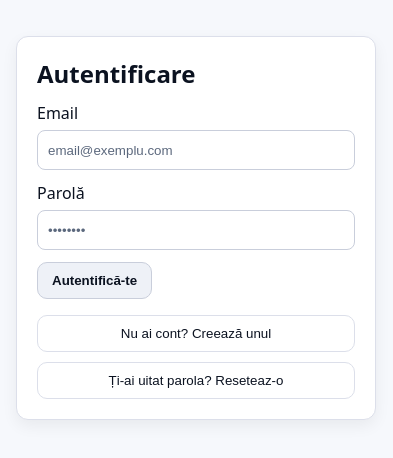
Test: AuthPage › apelează signInWithPassword la submit în modul signIn
Step 1. Type "test@mail.com" into the field with placeholder "email@exemplu.com" → (196, 150), box [37, 130, 355, 170]
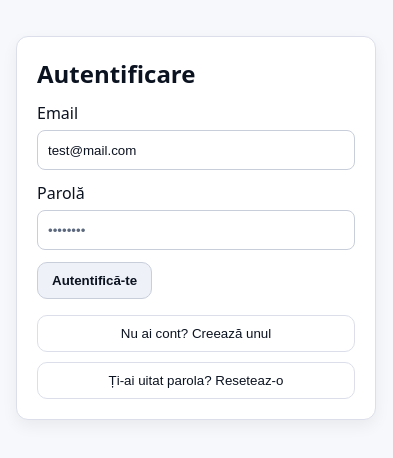
Step 2. Type "parola123" into the password field with placeholder "••••••••" → (196, 230), box [37, 210, 355, 250]
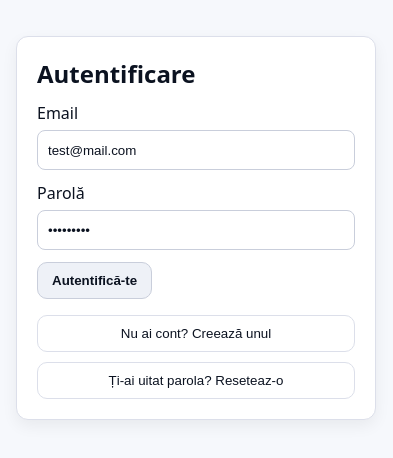
Step 3. Click the button "Autentifică-te" → (95, 280), box [37, 262, 152, 299]
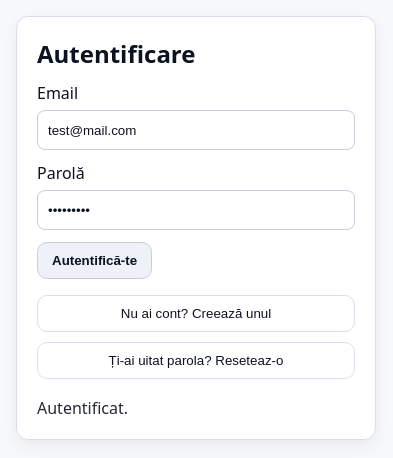
Expected: the text "Autentificat." is shown, [37, 397, 128, 419]
